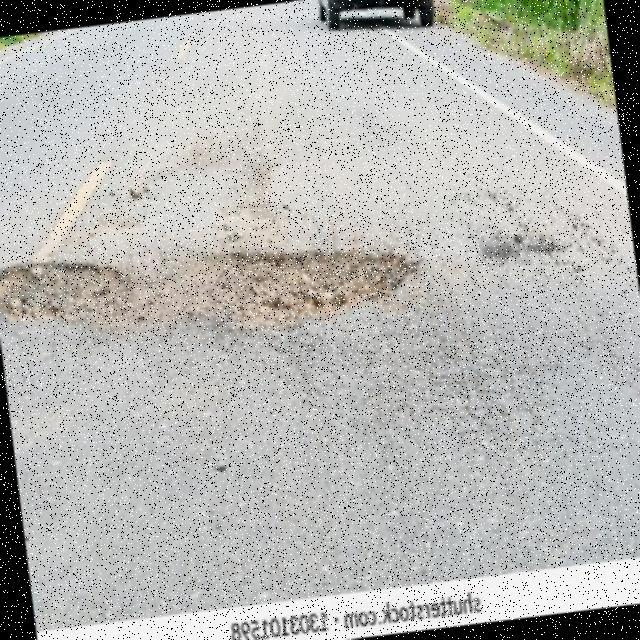Pothole: (0, 248, 418, 328)
